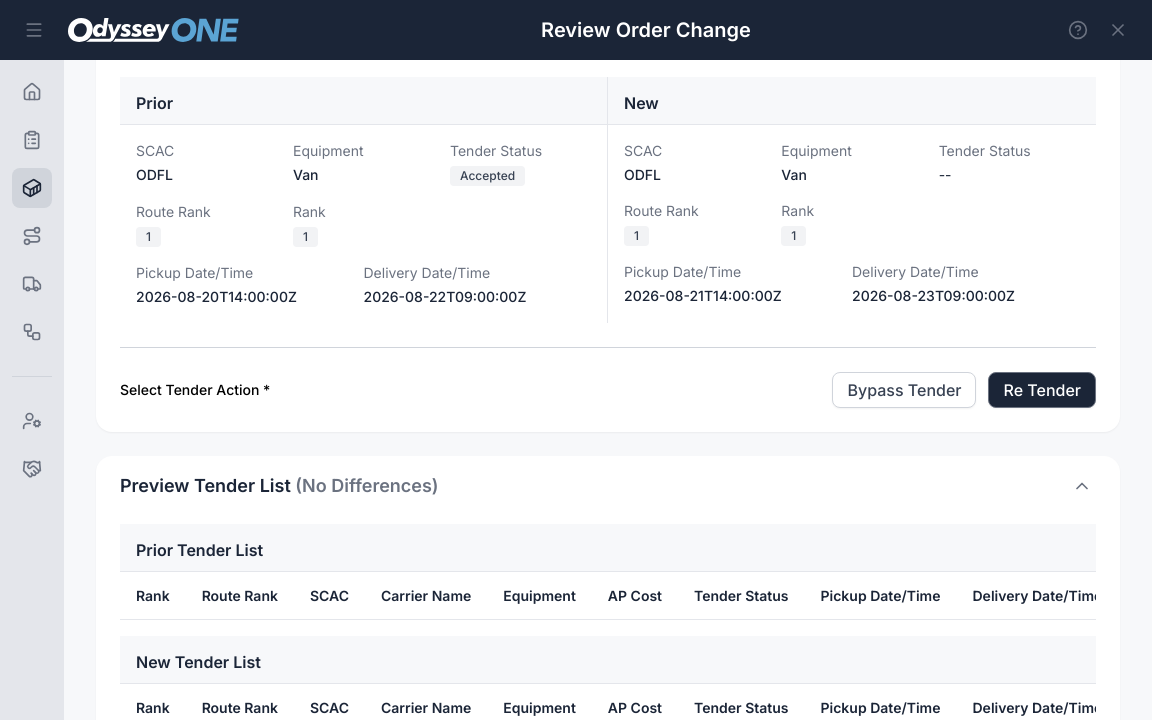
it: OrderChangeReviewRoute — action confirmations › dismissing the dialog abandons the action entirely
(page scrolled)
Click the button "Re Tender": click(1042, 390) [988,372,1096,408]
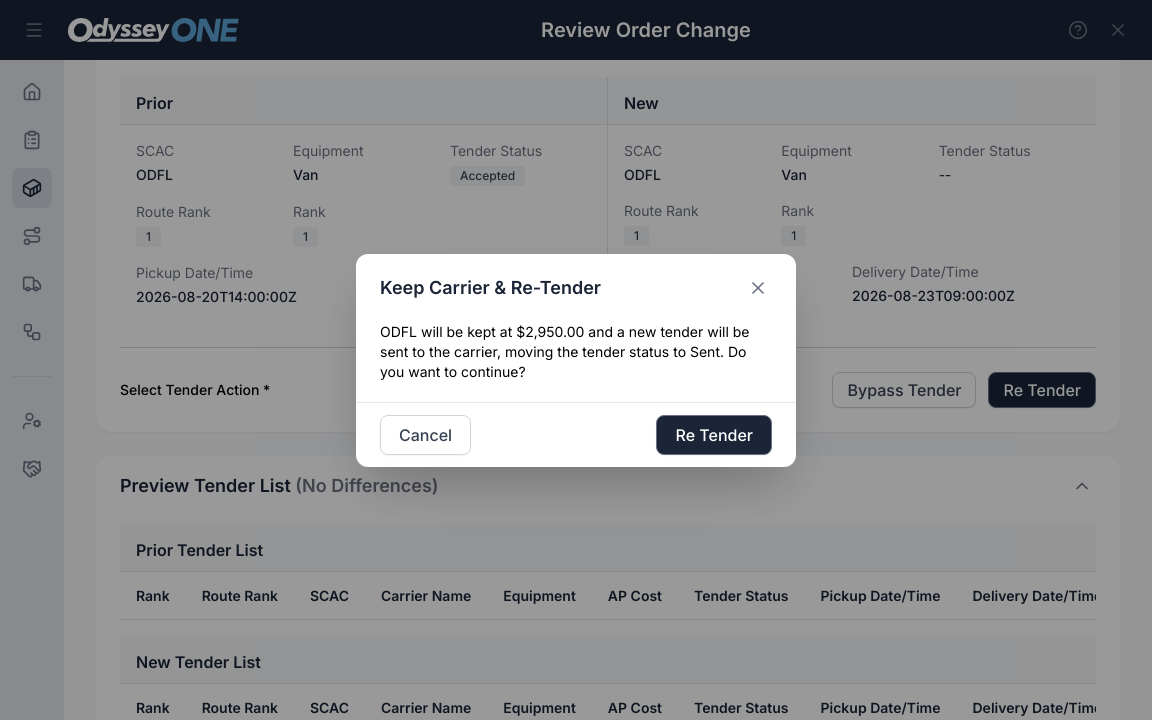
Click the button "Cancel": click(426, 434) [380,414,471,454]
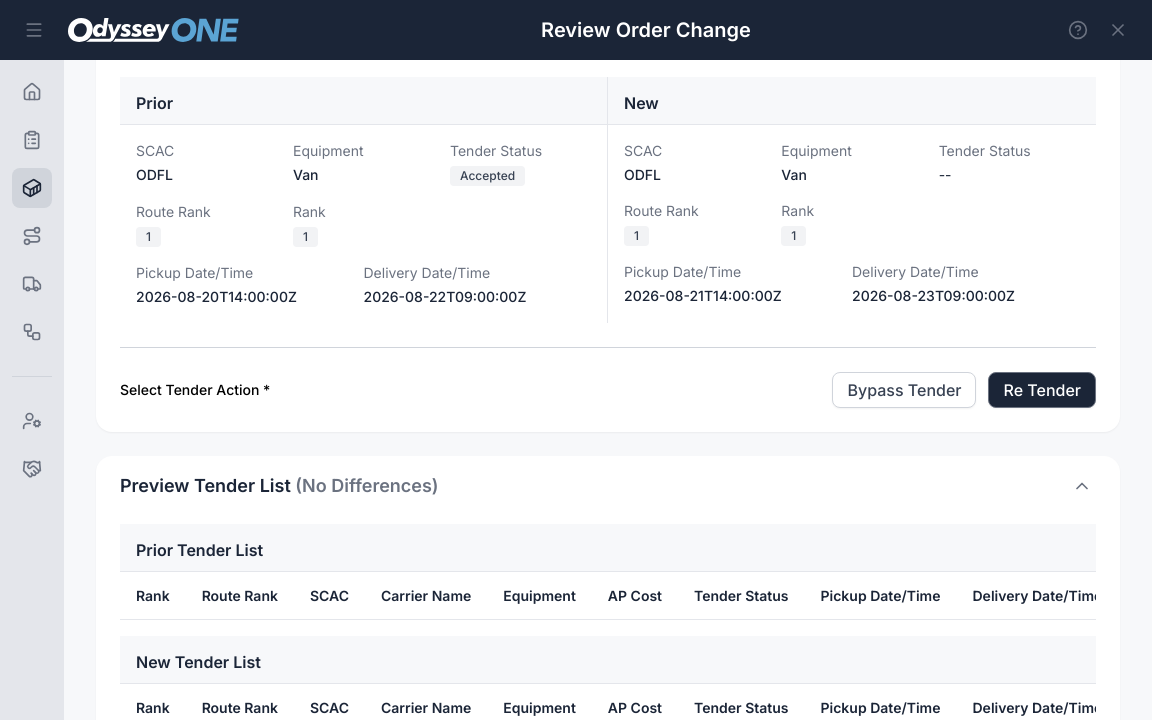
Check: the dialog is gone
